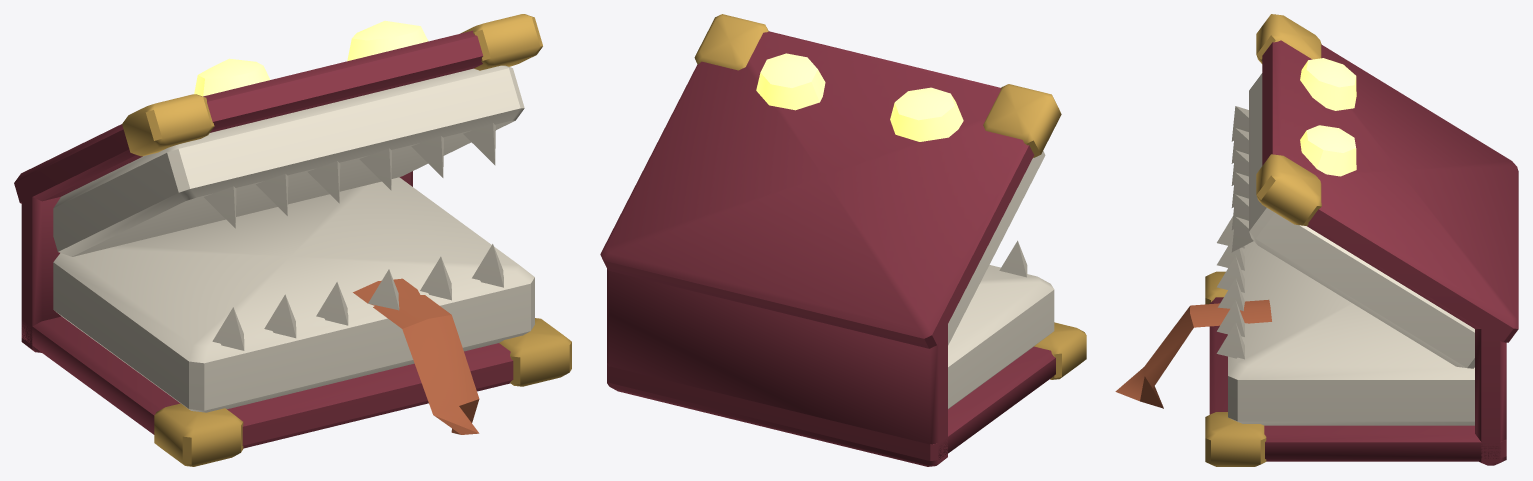
Rendered from animated-book.glb.
The picture shows the model from 3 angles, left to right: view 1: azimuth 30°, elevation 25°; view 2: azimuth 150°, elevation 25°; view 3: azimuth 270°, elevation 25°; orthographic projection. The views are drawn at different scales.
Visible parts, largest first — view 1: body, lid, glow_eyes; view 2: lid, body, glow_eyes; view 3: lid, body, glow_eyes.
Boxes of the visible parts, box(x1,y1,x2,y2) form: body: box(21, 171, 571, 466); lid: box(14, 14, 542, 256); glow_eyes: box(194, 20, 428, 96); lid: box(600, 14, 1061, 348); body: box(607, 240, 1086, 466); glow_eyes: box(756, 53, 963, 141); lid: box(1231, 14, 1518, 368); body: box(1115, 216, 1506, 466); glow_eyes: box(1300, 58, 1356, 176).
Size of the model in its own units: 0.45 by 0.3728 by 0.4619.
